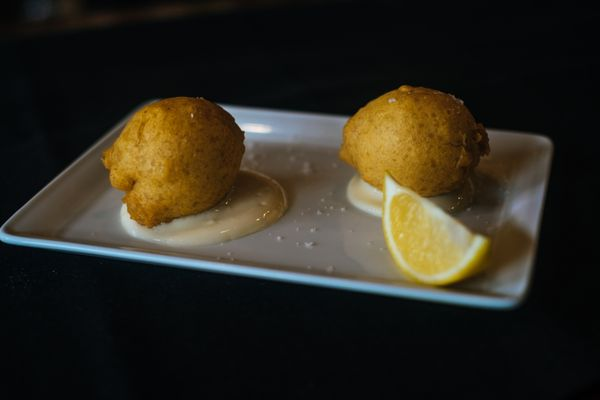taco: (381, 169, 493, 286)
